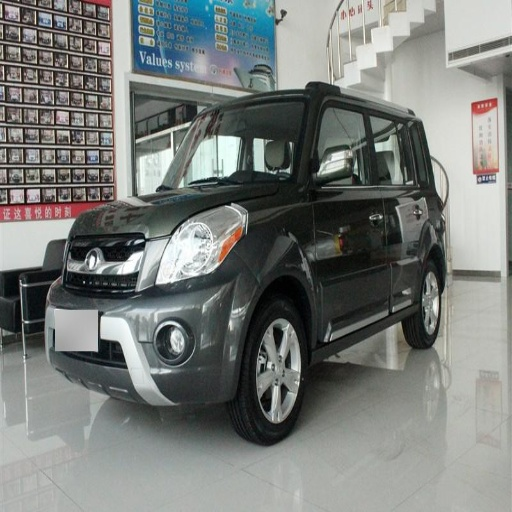front_bumper: (45, 235, 256, 405)
front_glass: (215, 100, 303, 181), (154, 134, 220, 189)
front_left_door: (306, 95, 390, 327)
